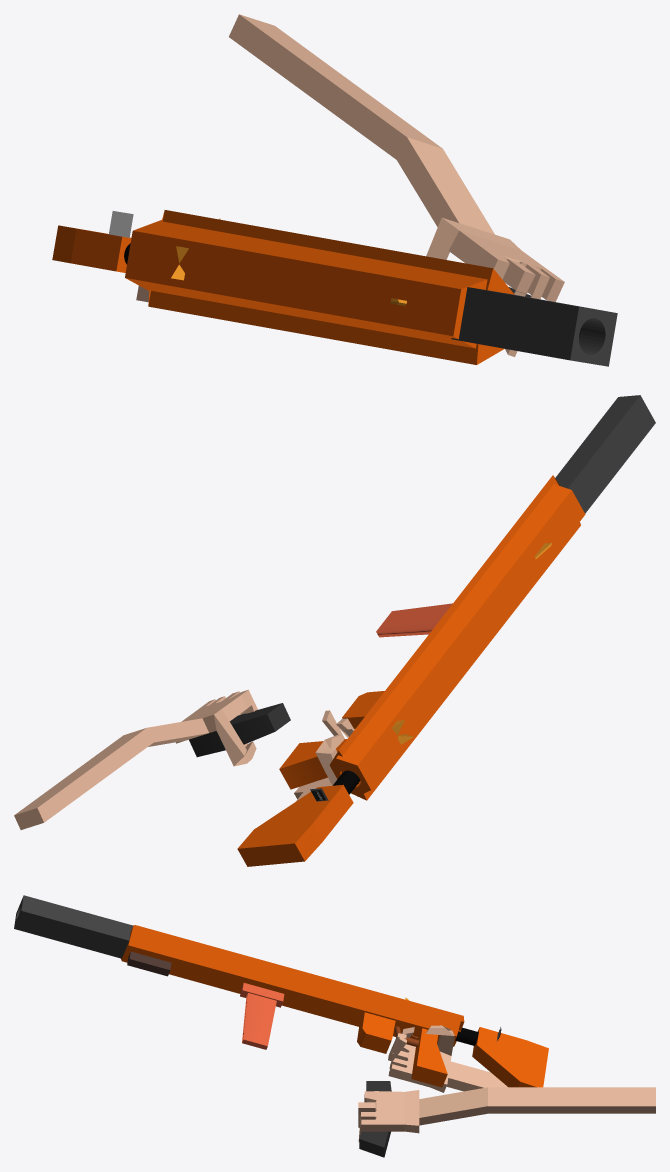
Rendered from ar reload 6.fbx.
The picture shows the model from 3 angles, top to bottom: view 1: azimuth 30°, elevation 25°; view 2: azimuth 150°, elevation 25°; view 3: azimuth 270°, elevation 25°; orthographic projection. The views are drawn at different scales.
Visible parts, largest first — view 1: Cube.011, Cube.013, Cube.008, Cube.005, Cube.009, Plane; view 2: Cube.011, Cube.013, Cube.005, Cube.009, Cube.008, Cube.004, Cube.012, Cube.002, Cube, Cube.010; view 3: Cube.008, Cube.013, Cube.005, Cube.009, Cube, Cube.012, Cube.001, Cube.002, Cube.010, Cube.004, Cube.003, Cube.011.
Part boxes in pixels (box(x1,y1,x2,y2)): Cube.011: box(125, 220, 487, 348); Cube.013: box(229, 14, 564, 356); Cube.008: box(148, 210, 514, 364); Cube.005: box(451, 287, 617, 366); Cube.009: box(52, 225, 131, 272); Plane: box(109, 211, 133, 237); Cube.011: box(336, 484, 585, 796); Cube.013: box(14, 689, 257, 829); Cube.005: box(555, 395, 655, 513); Cube.009: box(237, 784, 353, 866); Cube.008: box(329, 475, 580, 800); Cube.004: box(189, 703, 290, 757); Cube.012: box(376, 603, 452, 637); Cube.002: box(279, 739, 347, 789); Cube: box(294, 710, 354, 801); Cube.010: box(342, 691, 384, 728); Cube.008: box(121, 925, 461, 1044); Cube.013: box(358, 1087, 655, 1141); Cube.005: box(14, 895, 132, 958); Cube.009: box(472, 1027, 548, 1087); Cube: box(388, 1025, 507, 1092); Cube.012: box(240, 983, 284, 1049); Cube.001: box(258, 983, 364, 1026); Cube.002: box(411, 1028, 447, 1087); Cube.010: box(357, 1012, 395, 1053); Cube.004: box(359, 1081, 391, 1157); Cube.003: box(127, 951, 171, 976); Cube.011: box(135, 925, 464, 1046).
Bounding box in the file's own units: 695 × 688 × 2121.
Materials: 11 (1 with a texture image).
